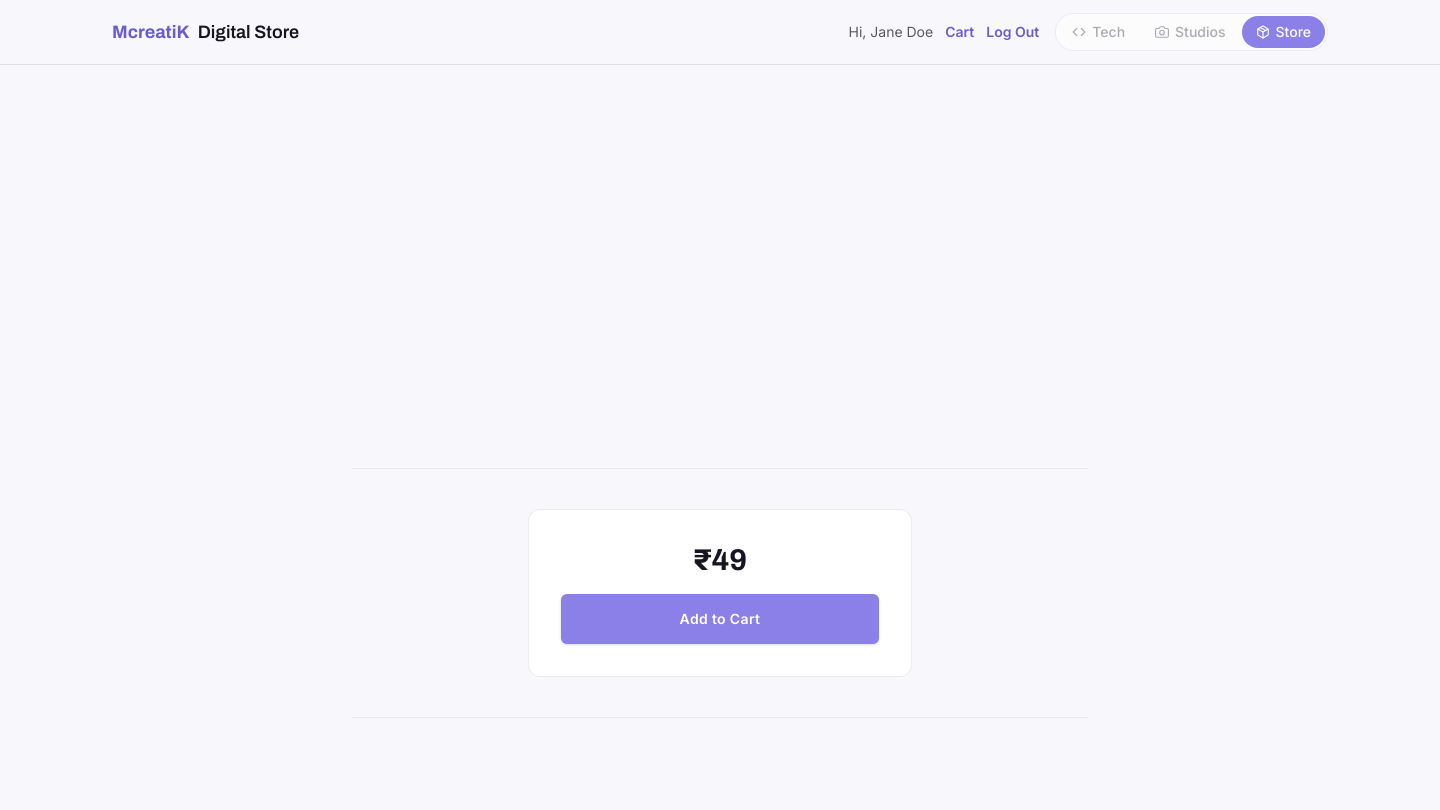
Test case: StoreProductPage — backend re-validation rejection is surfaced, not swallowed › shows the backend field-validation message when add-to-cart is rejected (e.g. a stale/edited schema)
Click the button "Add to Cart" at (720, 619), box [561,594,879,644]
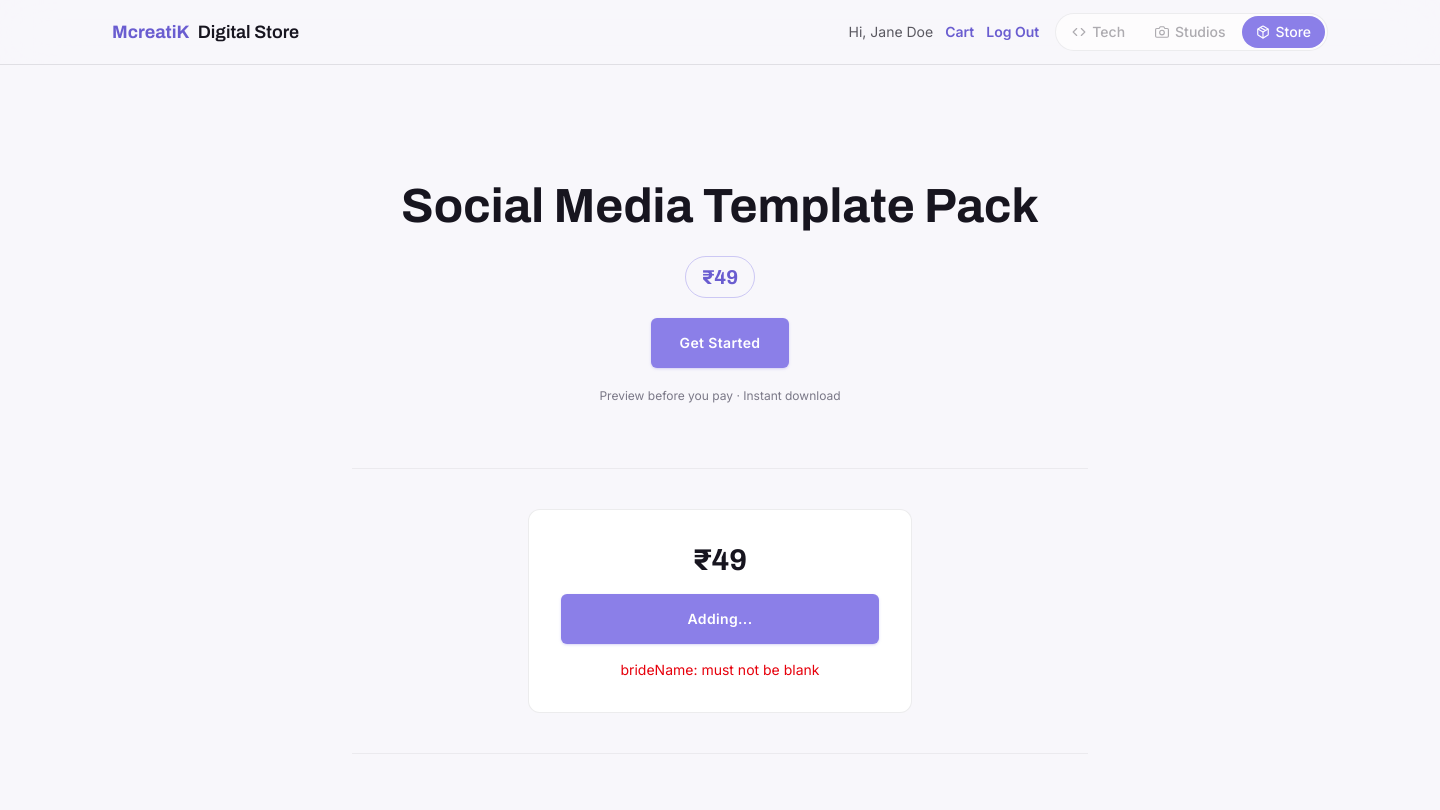
Expected: the text "brideName: must not be blank" is shown, [620,660,820,680]
